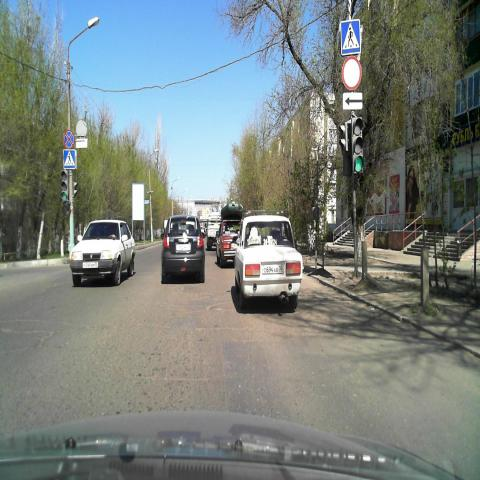3_2: (341, 55, 362, 90)
8_3_2: (343, 93, 362, 111)
